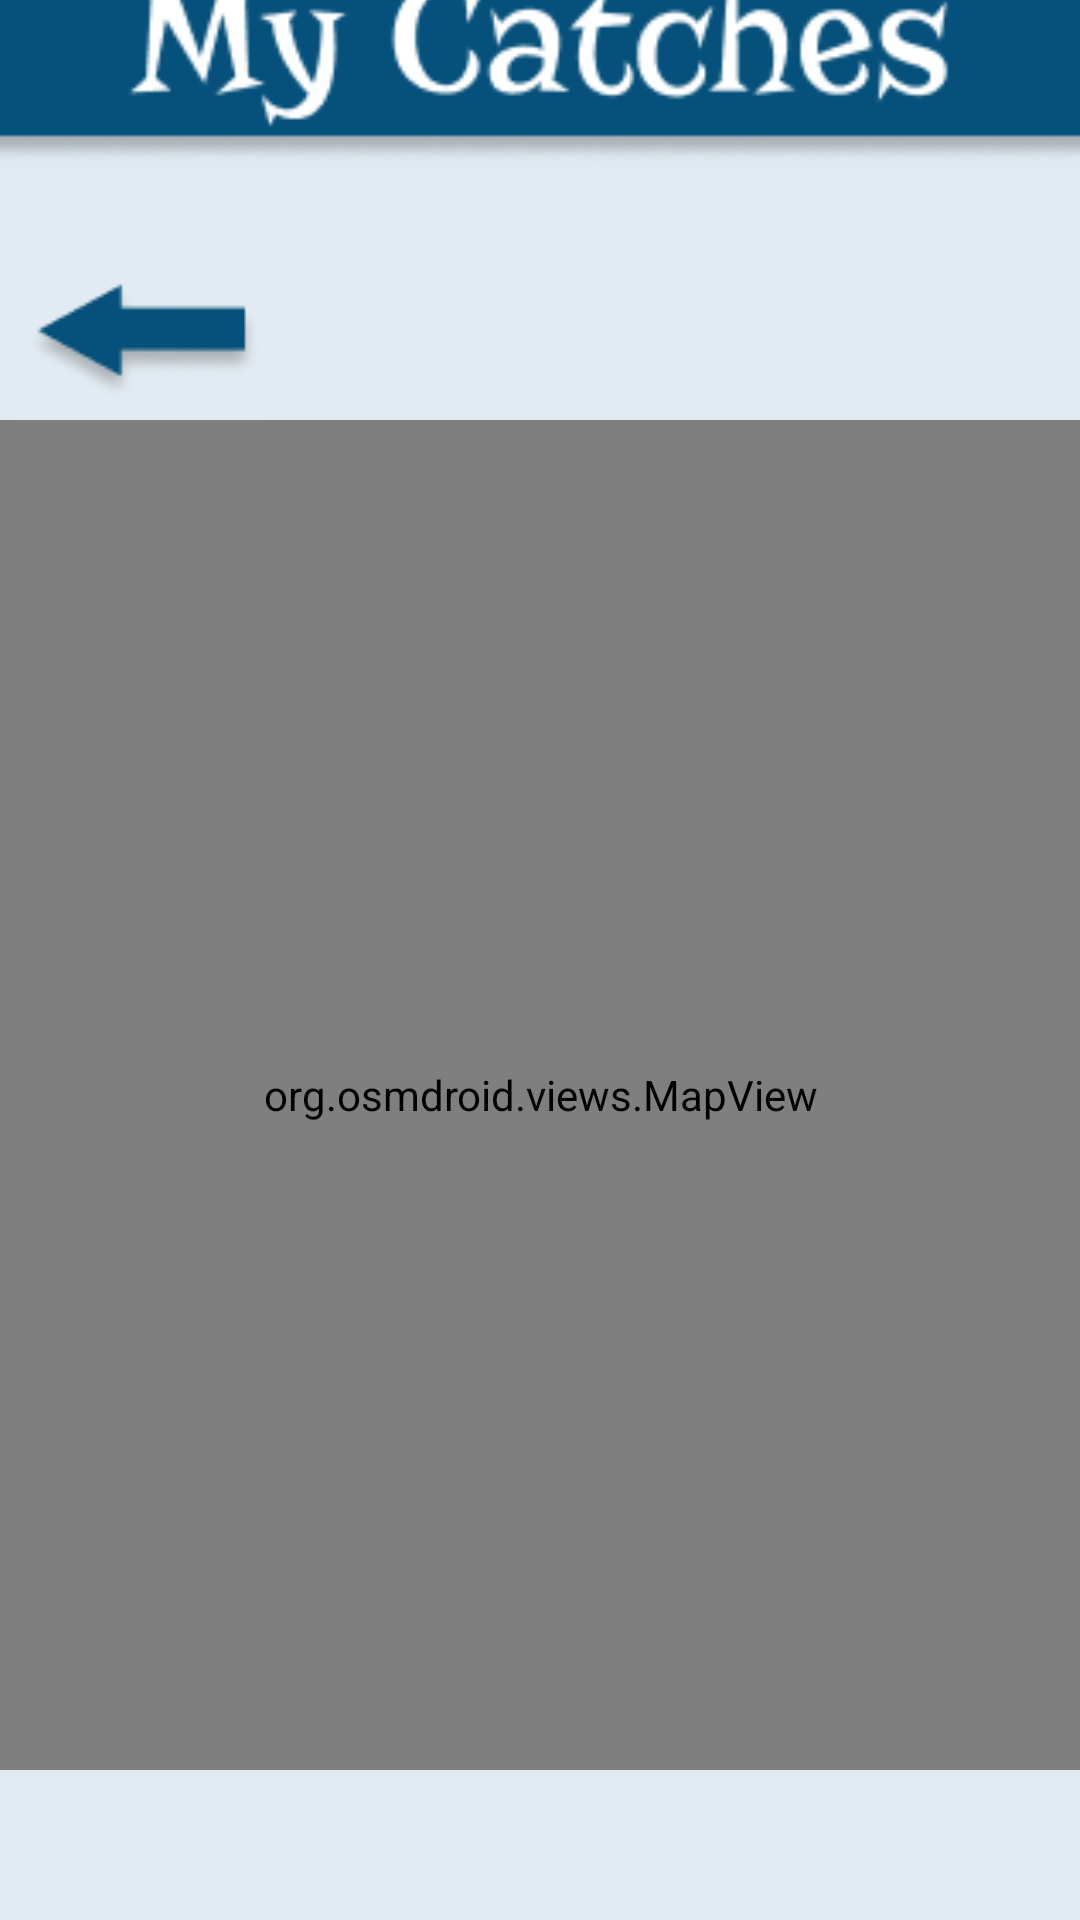

Locate icon controls on the screen. Image size 1080px×1920px, boxes as (x1, y1, x2, y2).
backbuttonimage: (37, 284, 247, 384)
